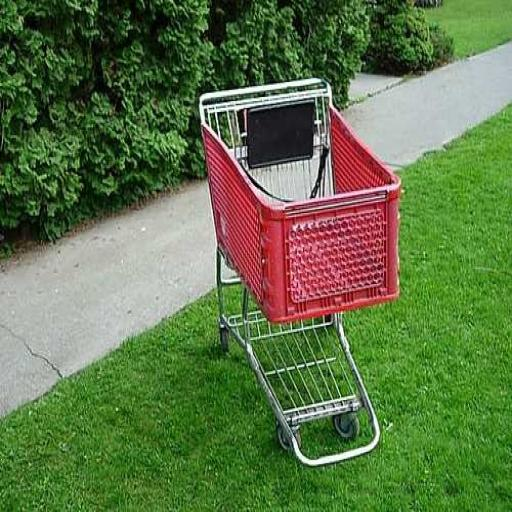shopping_cart: (197, 81, 402, 469)
